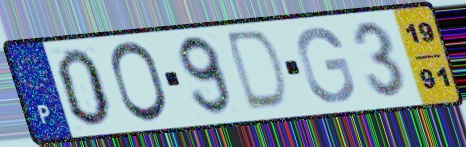0: (54, 46, 115, 128)
3: (351, 18, 411, 102)
9: (176, 34, 235, 120)
D: (225, 27, 292, 114)
G: (294, 25, 357, 105)
O: (107, 39, 171, 126)
